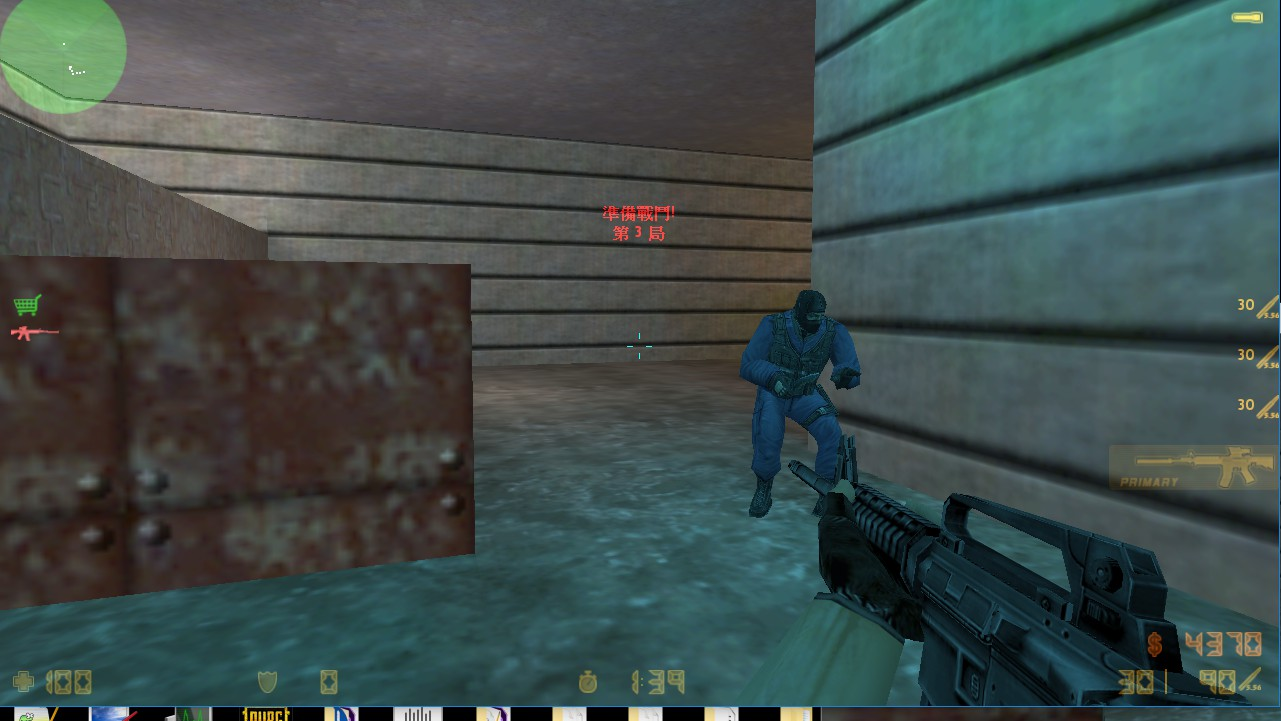person: (728, 280, 864, 529)
